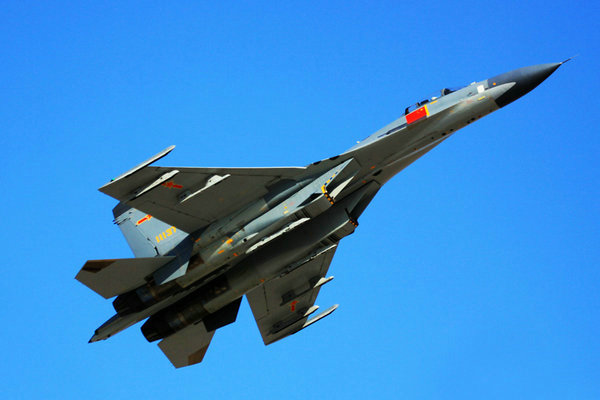airplane: (75, 56, 568, 370)
